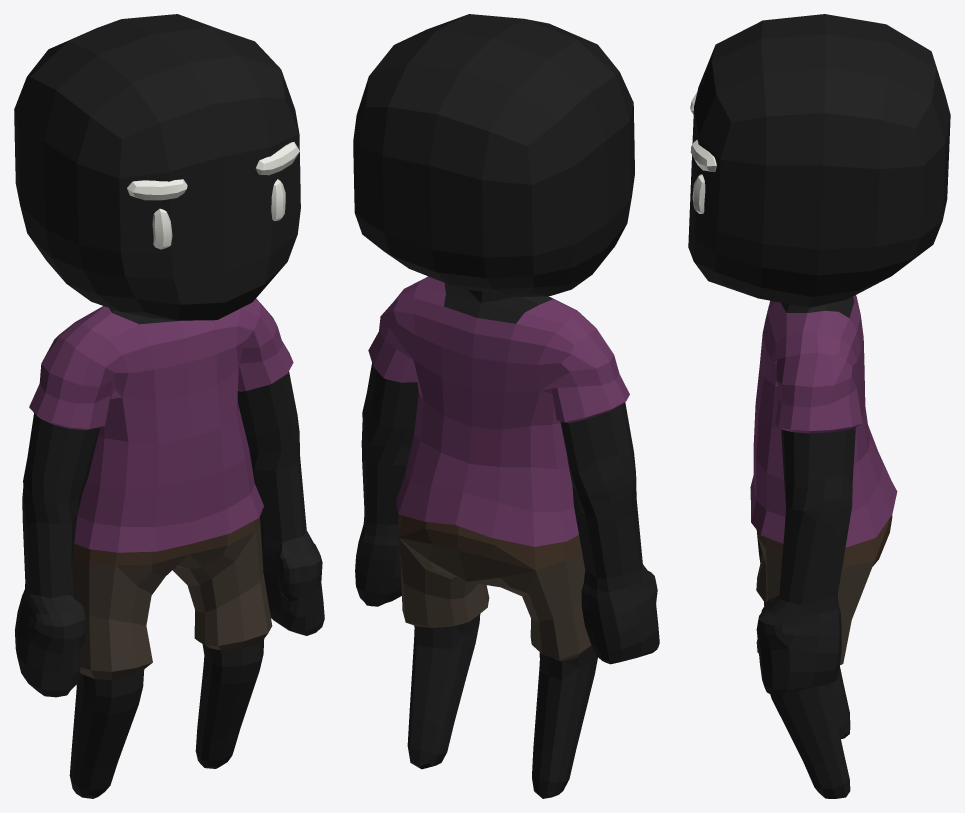
File: casual-bald-bb38f56fb7.glb
The picture shows the model from 3 angles, left to right: view 1: azimuth 30°, elevation 25°; view 2: azimuth 150°, elevation 25°; view 3: azimuth 270°, elevation 25°; orthographic projection. The views are drawn at different scales.
Visible parts, largest first — view 1: Casual_Bald.obj; view 2: Casual_Bald.obj; view 3: Casual_Bald.obj.
Part boxes in pixels (x1,y1,x2,y2): Casual_Bald.obj: [14, 14, 324, 798]; Casual_Bald.obj: [353, 14, 659, 798]; Casual_Bald.obj: [688, 14, 950, 798].
Bounding box in the file's own units: 1.28 × 3.1 × 1.
